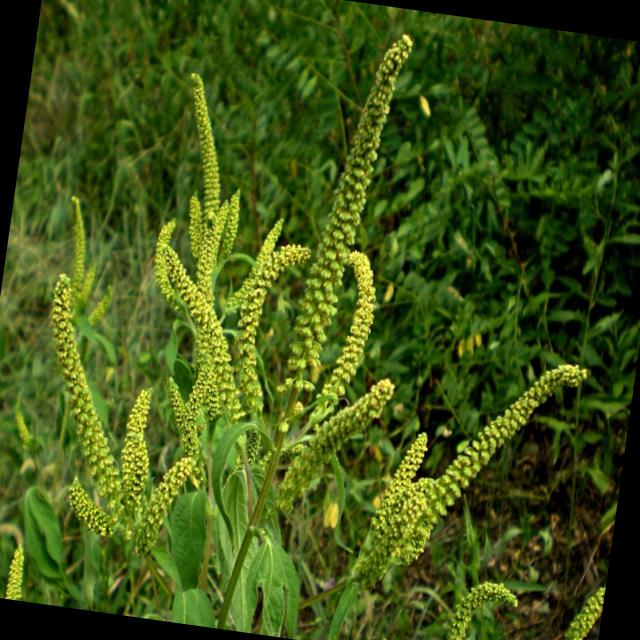ambrosia: (286, 19, 452, 494), (119, 69, 314, 459), (0, 173, 142, 544), (396, 335, 592, 535), (425, 555, 523, 640)
